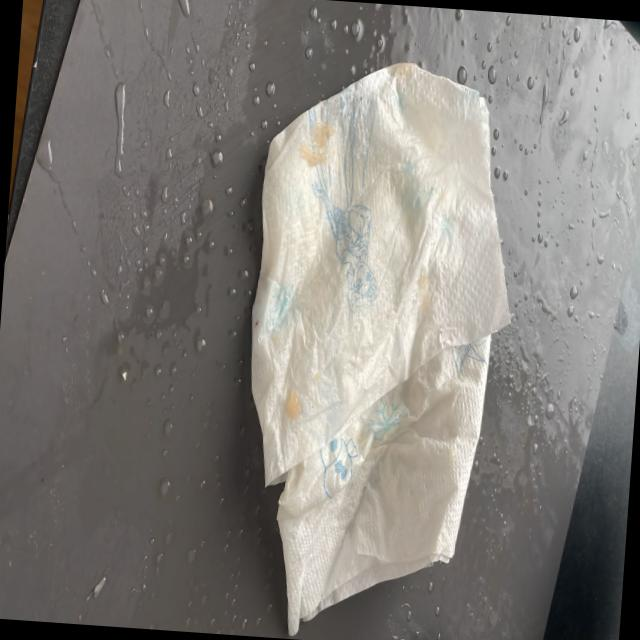organic waste: (227, 59, 526, 640)
